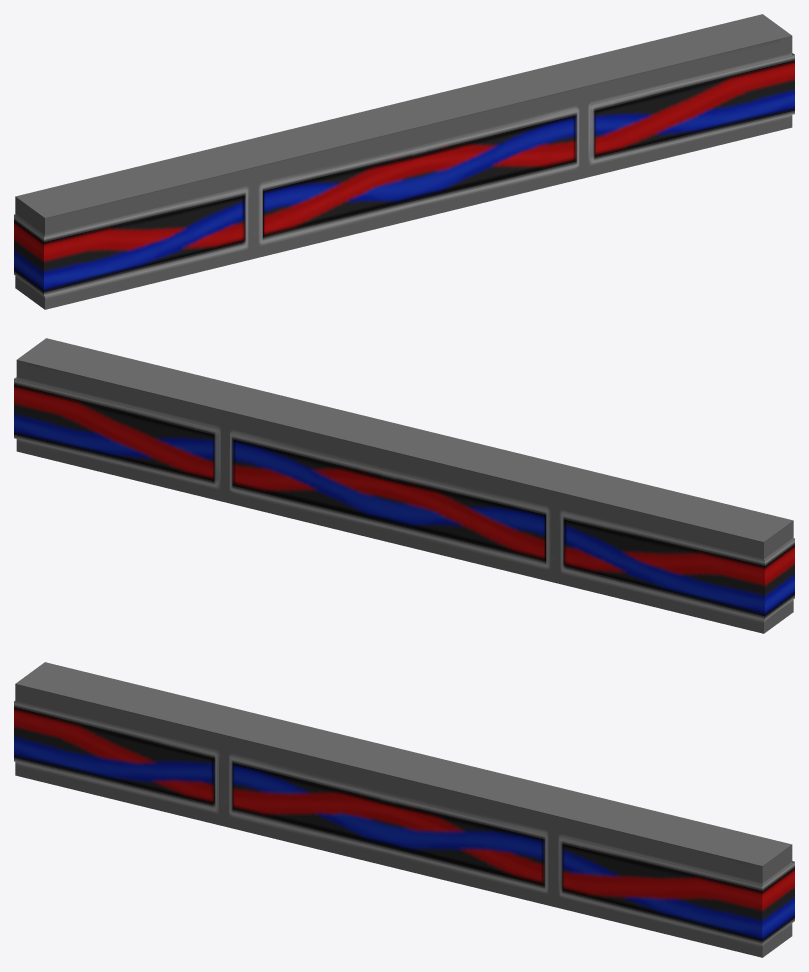
File: space_border.gltf
The picture shows the model from 3 angles, top to bottom: view 1: azimuth 30°, elevation 25°; view 2: azimuth 150°, elevation 25°; view 3: azimuth 330°, elevation 25°; orthographic projection.
Parts seen in each view (by area): view 1: space_border2_glb; view 2: space_border2_glb; view 3: space_border2_glb.
Boxes of the visible parts, x1,y1,x2,y2 form: space_border2_glb: (14,14,794,309); space_border2_glb: (14,338,794,633); space_border2_glb: (14,662,794,957).
Size of what is drawn, in the model's own units: 4.04 by 0.4726 by 0.3061.
Materials: 1 (1 with a texture image).
